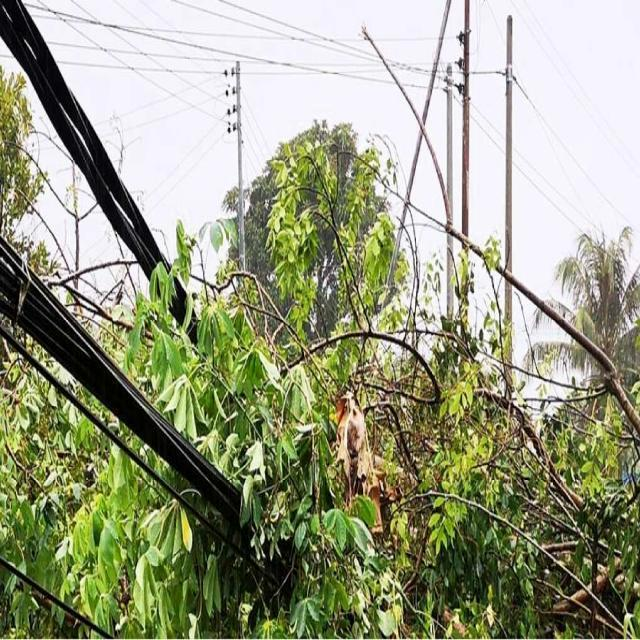critical vegetation: (48, 54, 420, 551)
